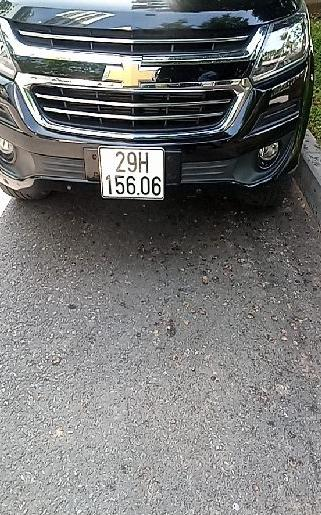Plate-iWeP: (103, 149, 164, 197)
